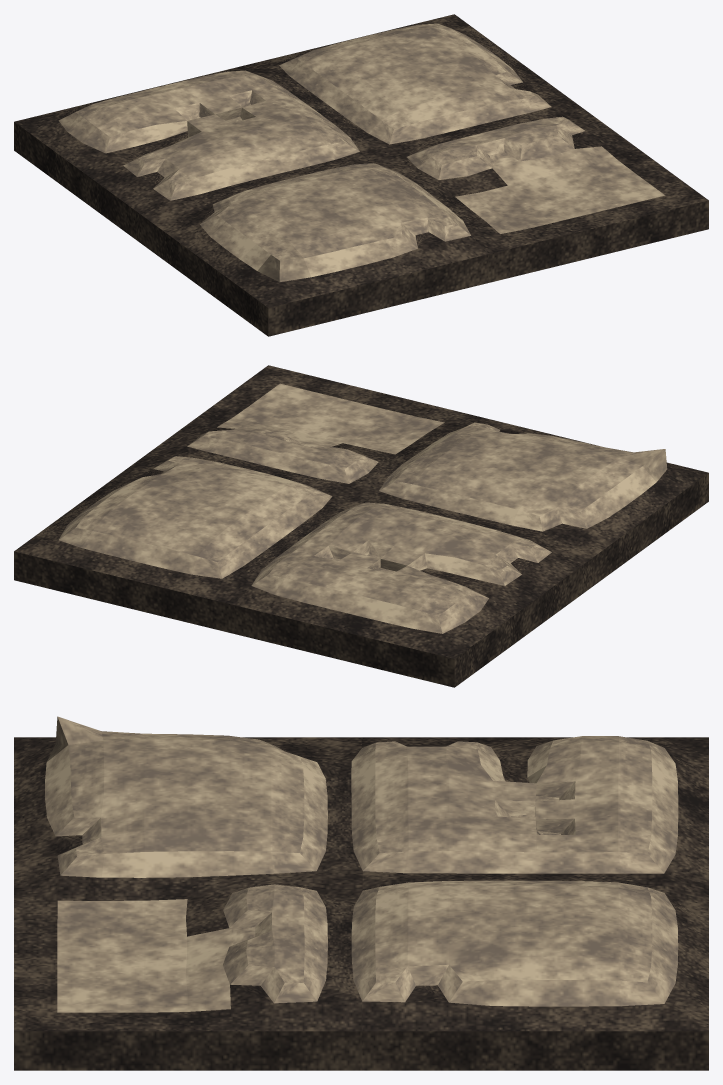
Rendered from floor_b.glb.
The picture shows the model from 3 angles, top to bottom: view 1: azimuth 30°, elevation 25°; view 2: azimuth 150°, elevation 25°; view 3: azimuth 270°, elevation 25°; orthographic projection. The views are drawn at different scales.
Visible parts, largest first — view 1: crypt_floor_b; view 2: crypt_floor_b; view 3: crypt_floor_b.
Part boxes in pixels (<box>): crypt_floor_b: <box>14,14,708,336</box>; crypt_floor_b: <box>14,365,708,687</box>; crypt_floor_b: <box>14,716,708,1070</box>.
Bounding box in the file's own units: 1 × 0.125 × 1.
1 material, 1 textured.
